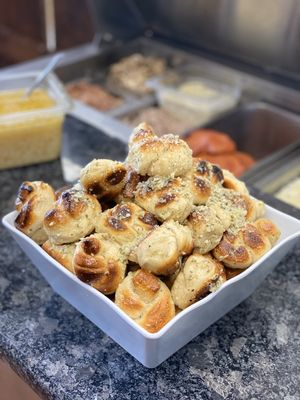sushi: (3, 113, 298, 369)
